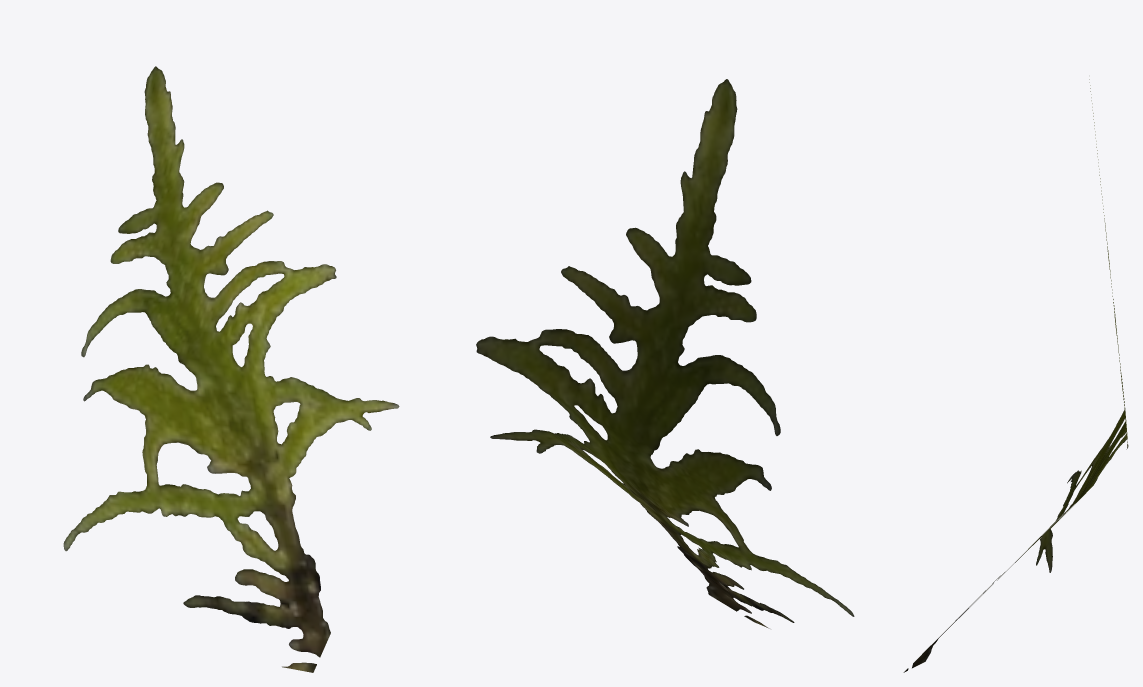
Rendered from moss_01_h_LOD1.glb.
The picture shows the model from 3 angles, left to right: view 1: azimuth 30°, elevation 25°; view 2: azimuth 150°, elevation 25°; view 3: azimuth 270°, elevation 25°; orthographic projection. The views are drawn at different scales.
Parts seen in each view (by area): view 1: moss_01_h_LOD1__lod0; view 2: moss_01_h_LOD1__lod0; view 3: moss_01_h_LOD1__lod0.
Boxes of the visible parts, x1,y1,x2,y2 form: moss_01_h_LOD1__lod0: (63, 66, 399, 672); moss_01_h_LOD1__lod0: (476, 79, 854, 628); moss_01_h_LOD1__lod0: (903, 79, 1128, 672).
Bounding box in the file's own units: 0.0107 × 0.0176 × 0.00575.
1 material, 1 textured.
